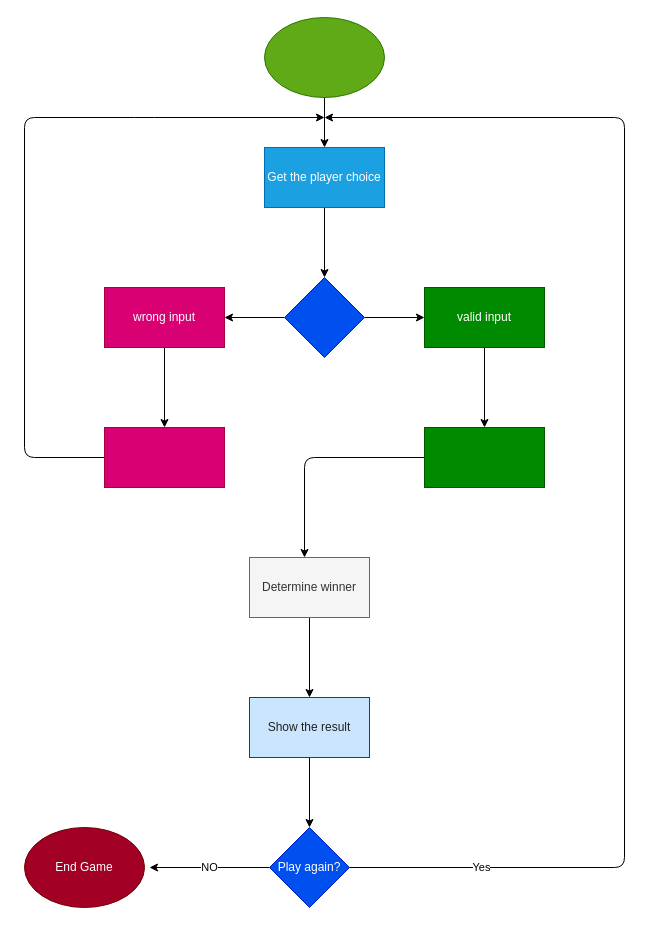
This 650x925 diagram has some shape labels left out. The shapes that lost their labels are listed below. From the top down, each one's centre as x and y in pixels, then its label:
At point (324, 57): "Start Game".
At point (324, 317): "Validate it".
At point (164, 457): "error ( choose a valid move)".
At point (484, 457): "generate the computer choice randomly".
